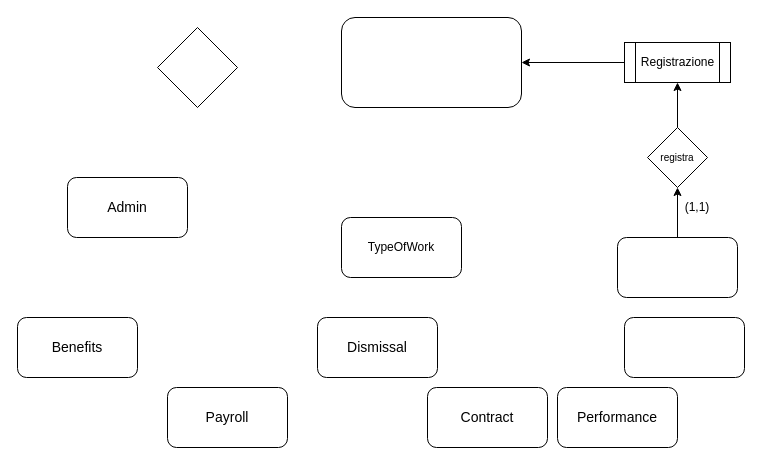
This 762x465 diagram has some shape labels left out. Each missing label, with the centre of its shape:
"Employee" goes at pixel 677 267.
"People Power" goes at pixel 431 62.
